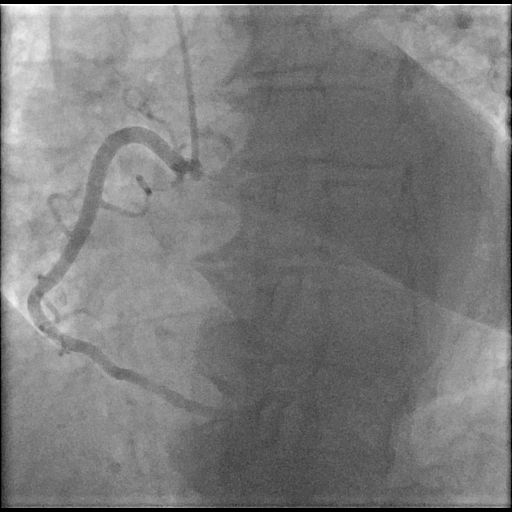RCA: (27, 127, 218, 417)
catherter: (174, 5, 199, 166)
